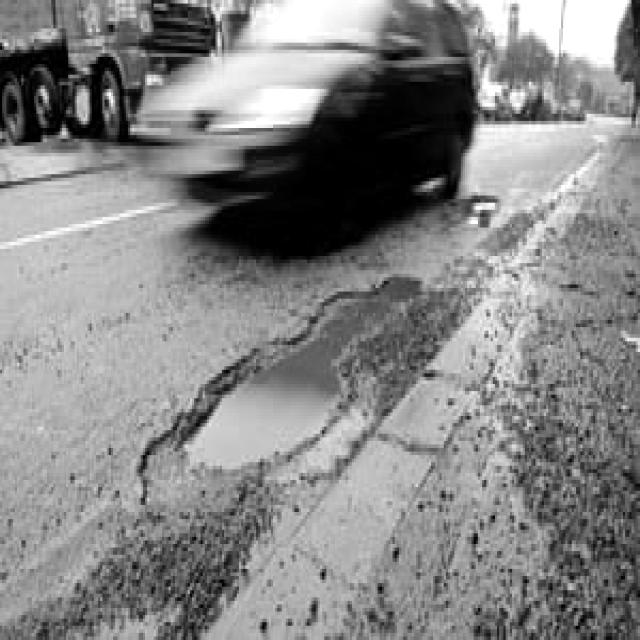pathole: (94, 272, 432, 530), (461, 194, 500, 253)
